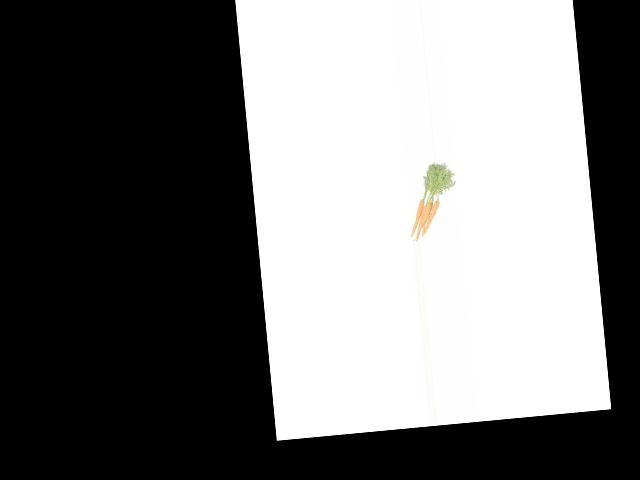carrot: (403, 197, 429, 239)
